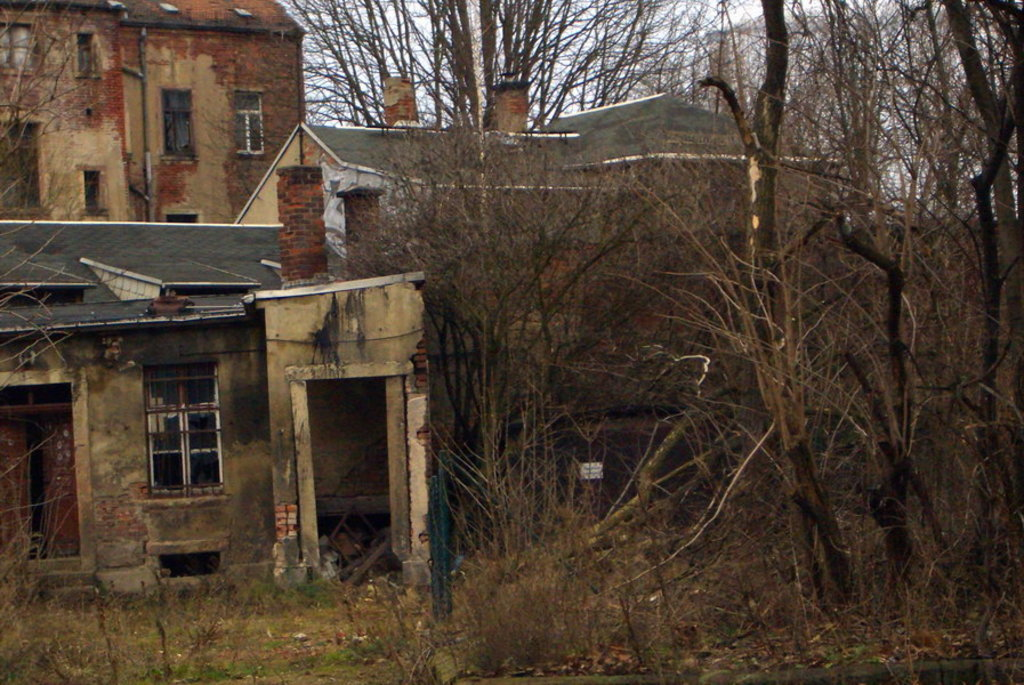Tree: (0, 0, 1022, 683), (675, 0, 1019, 624), (302, 93, 721, 550), (0, 3, 139, 495), (265, 0, 738, 133)
